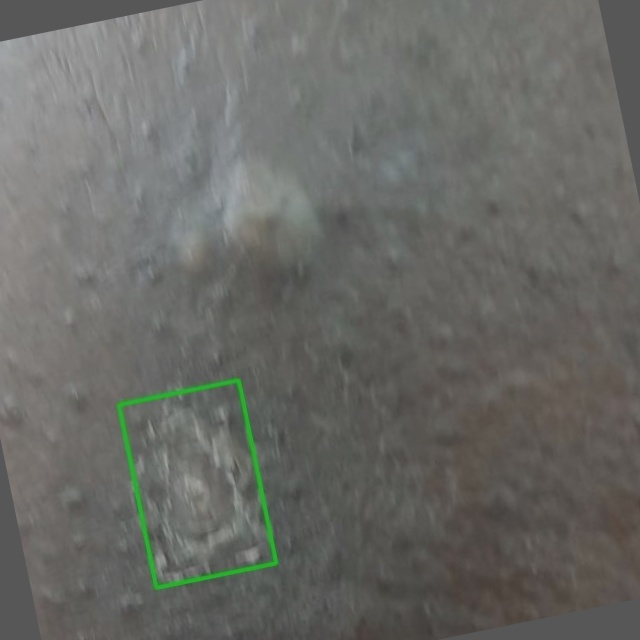Seborrheic Dermatitis: (118, 380, 276, 587)
